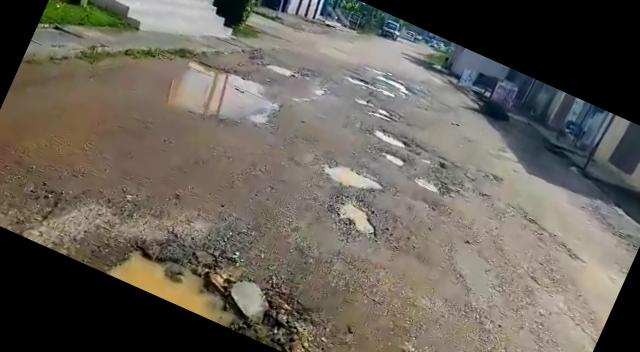pothole: (106, 27, 284, 150), (100, 224, 266, 336), (317, 154, 388, 202), (322, 189, 384, 243), (347, 71, 398, 101), (358, 96, 406, 127), (369, 125, 414, 154), (372, 70, 418, 96), (262, 56, 302, 82), (409, 168, 445, 196), (378, 148, 410, 168)
